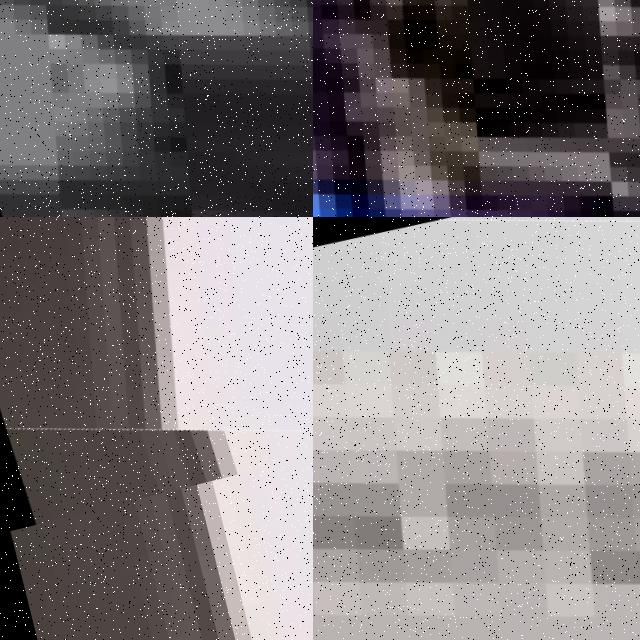0: (313, 0, 640, 217), (0, 0, 313, 217)
drone: (313, 217, 640, 640), (0, 217, 313, 530)
